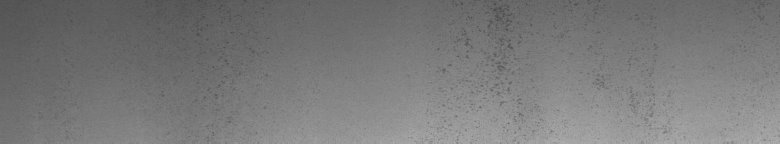ib: (191, 24, 259, 123)
